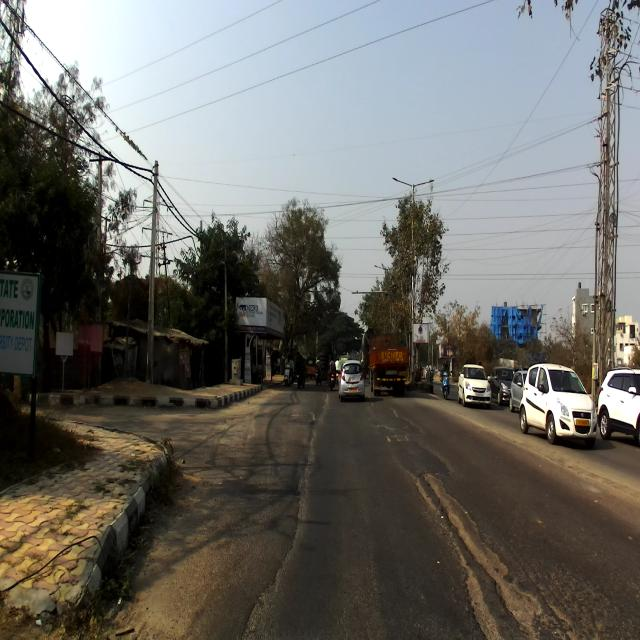car ahead at: (520, 358, 598, 452)
